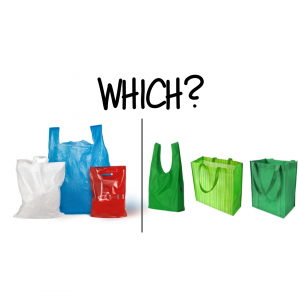PaperBag: (190, 148, 248, 216), (148, 140, 189, 216), (249, 154, 297, 218)
PlasticBag: (47, 122, 107, 220), (11, 156, 66, 220), (89, 165, 130, 220)
